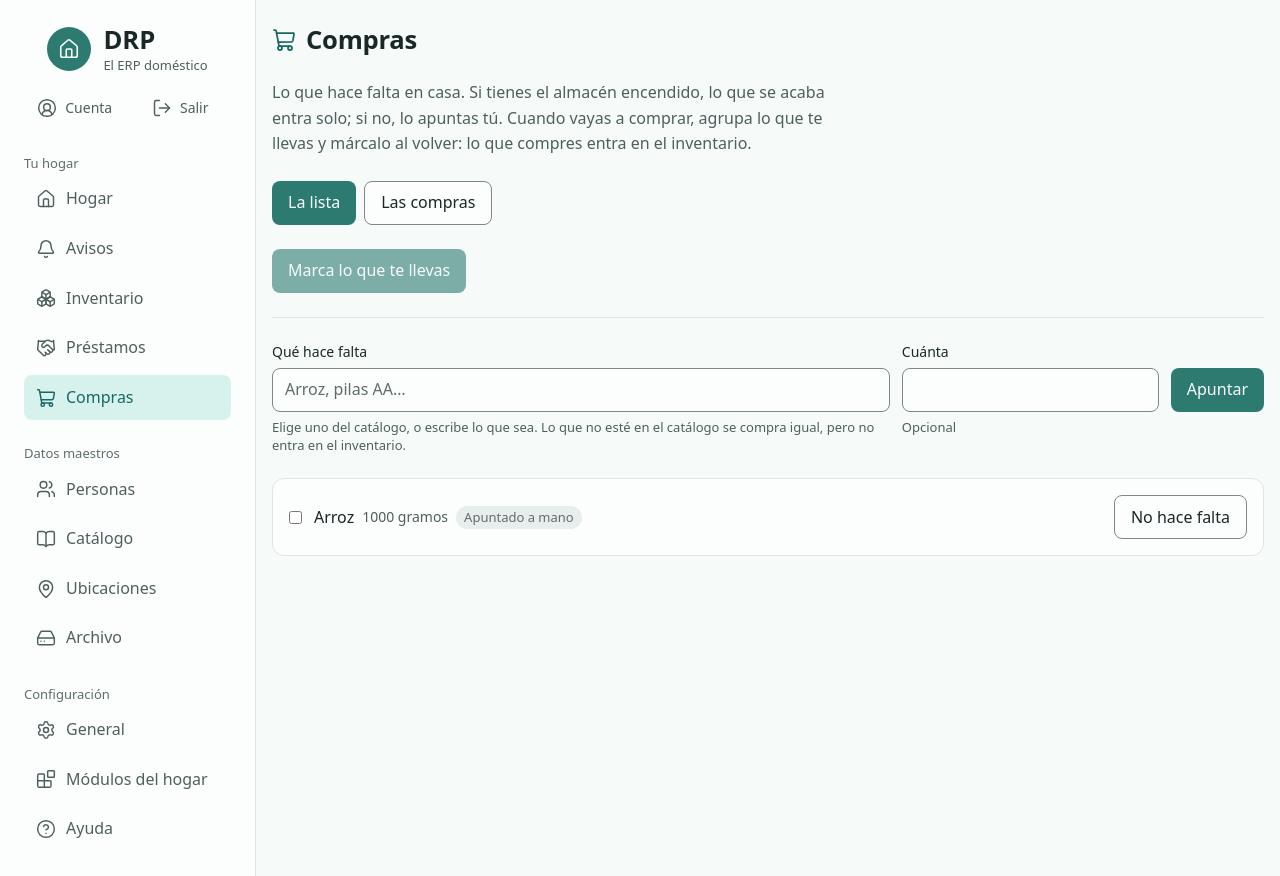
Test: con el módulo de proveedores apagado › el selector de dónde se compra no está, y la pantalla no explica nada
Expected: the heading "Compras" is shown, left=306, top=24, right=417, bottom=56
Expected: the text "Arroz" is shown, left=314, top=505, right=354, bottom=530
What coordinates should you click on to do the following:
click the checkbox
I would click on:
 (296, 517)
Its box is left=289, top=511, right=302, bottom=524.
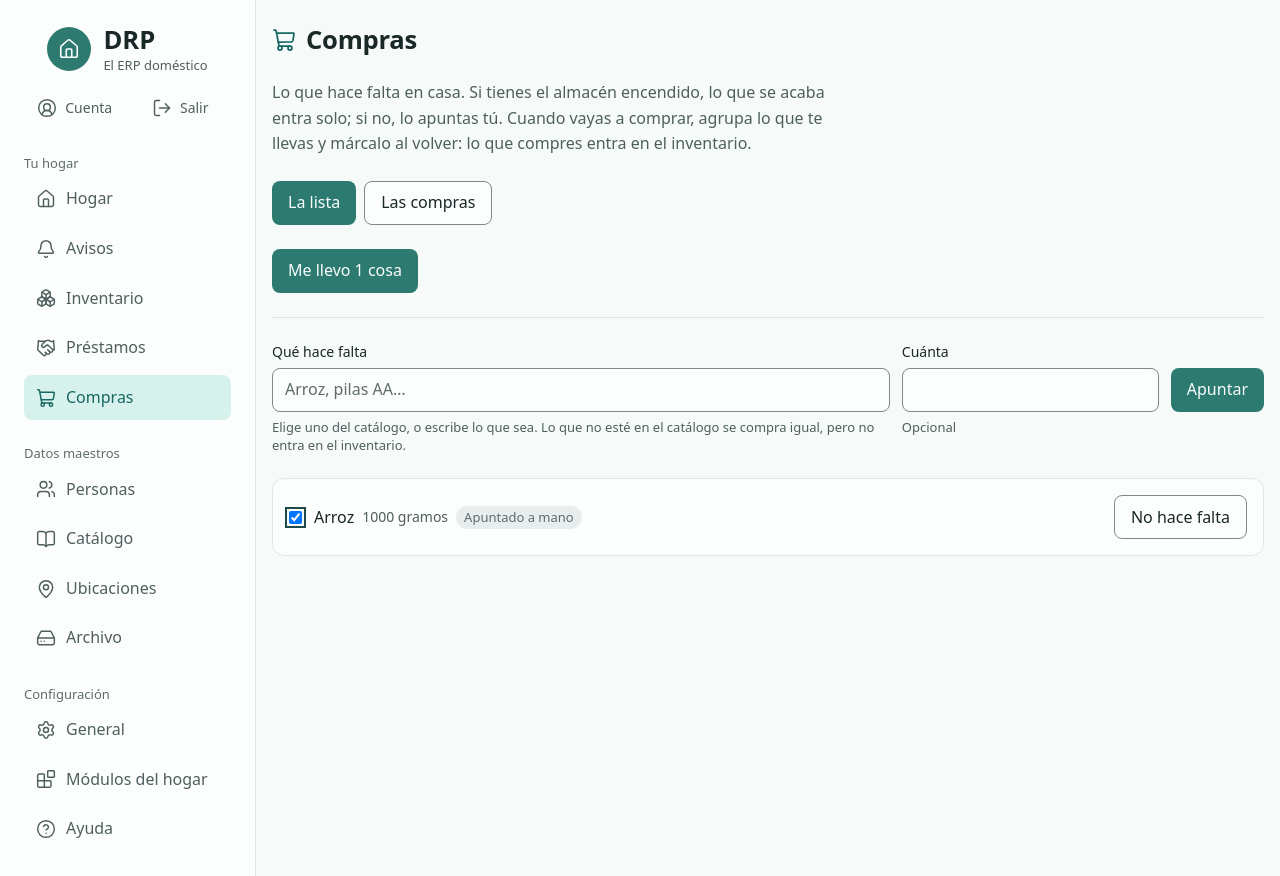
Now the button "Me llevo 1 cosa" is enabled, box left=272, top=249, right=418, bottom=293
